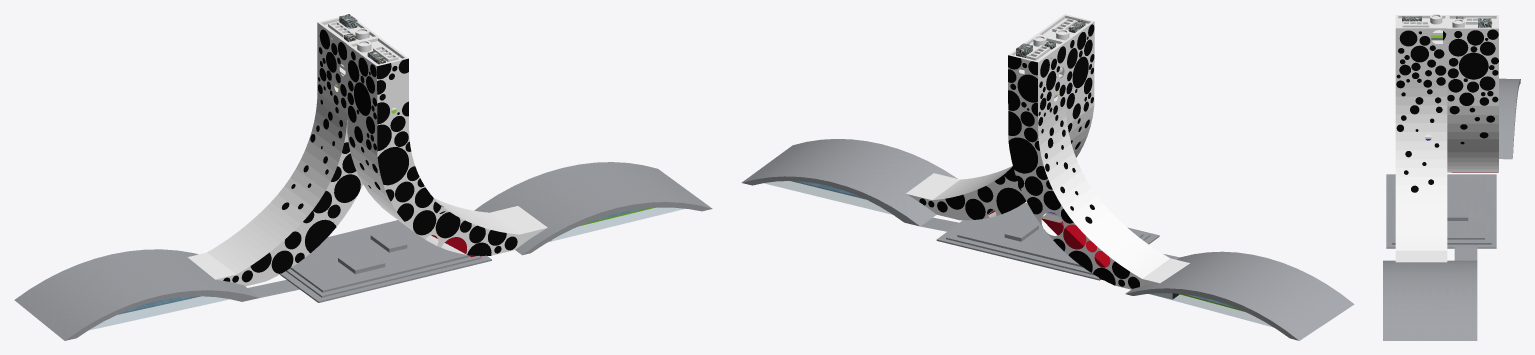
The model's file is Ren.FBX.
The picture shows the model from 3 angles, left to right: view 1: azimuth 30°, elevation 25°; view 2: azimuth 150°, elevation 25°; view 3: azimuth 270°, elevation 25°; orthographic projection. The views are drawn at different scales.
Visible parts, largest first — view 1: Component_1_2, Component_1_1, Component_4_2, Component_4_1, Model; view 2: Component_1_2, Component_4_2, Component_4_1, Component_1_1, Model, Component_3_1; view 3: Component_1_1, Component_1_2, Component_4_1, Model, Component_4_2, Component_3_2.
Boxes of the visible parts, bbox=[...] form: Component_1_2: bbox=[188, 17, 378, 286]; Component_1_1: bbox=[347, 36, 551, 255]; Component_4_2: bbox=[14, 249, 259, 340]; Component_4_1: bbox=[474, 162, 712, 255]; Model: bbox=[248, 14, 491, 302]; Component_1_2: bbox=[1008, 34, 1189, 299]; Component_4_2: bbox=[1125, 251, 1354, 340]; Component_4_1: bbox=[741, 139, 957, 226]; Component_1_1: bbox=[906, 14, 1094, 220]; Model: bbox=[921, 20, 1179, 280]; Component_3_1: bbox=[1019, 55, 1110, 280]; Component_1_1: bbox=[1395, 14, 1447, 262]; Component_1_2: bbox=[1447, 15, 1498, 172]; Component_4_1: bbox=[1383, 260, 1477, 340]; Model: bbox=[1386, 16, 1496, 260]; Component_4_2: bbox=[1499, 78, 1520, 159]; Component_3_2: bbox=[1425, 30, 1442, 140].
Bounding box in the file's own units: 21982 × 7492 × 4881.
25 materials, 5 textured.
